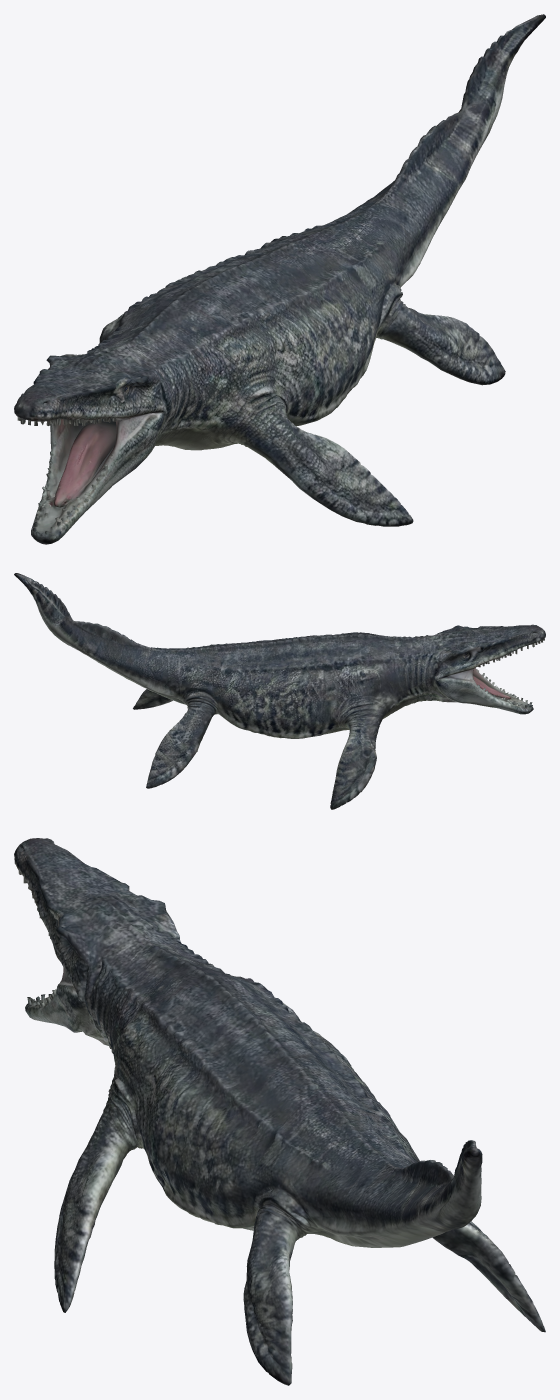
Rendered from mosasaurus.glb.
3 views of the same model, one above another, from view 1: azimuth 30°, elevation 25°; view 2: azimuth 150°, elevation 25°; view 3: azimuth 270°, elevation 25° (orthographic). The views are drawn at different scales.
Parts seen in each view (by area): view 1: tripo_node_a972980f-5bc4-4ca8-abde-5fa7d393326b; view 2: tripo_node_a972980f-5bc4-4ca8-abde-5fa7d393326b; view 3: tripo_node_a972980f-5bc4-4ca8-abde-5fa7d393326b.
Boxes of the visible parts, <box> form: tripo_node_a972980f-5bc4-4ca8-abde-5fa7d393326b: <box>14,14,545,544</box>; tripo_node_a972980f-5bc4-4ca8-abde-5fa7d393326b: <box>14,573,545,809</box>; tripo_node_a972980f-5bc4-4ca8-abde-5fa7d393326b: <box>14,838,545,1385</box>.
Size of the model in its own units: 0.9822 by 0.4047 by 0.5583.
1 material, 1 textured.
